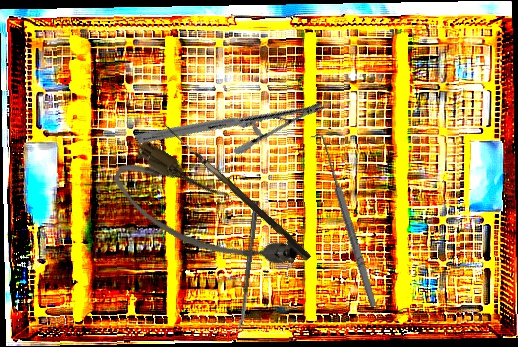Cannula: (104, 135, 307, 298)
Hook Surgical: (153, 120, 315, 262), (309, 131, 380, 311)
Needle Holder: (133, 31, 327, 214)
Surgical Spoon: (237, 201, 259, 331)
